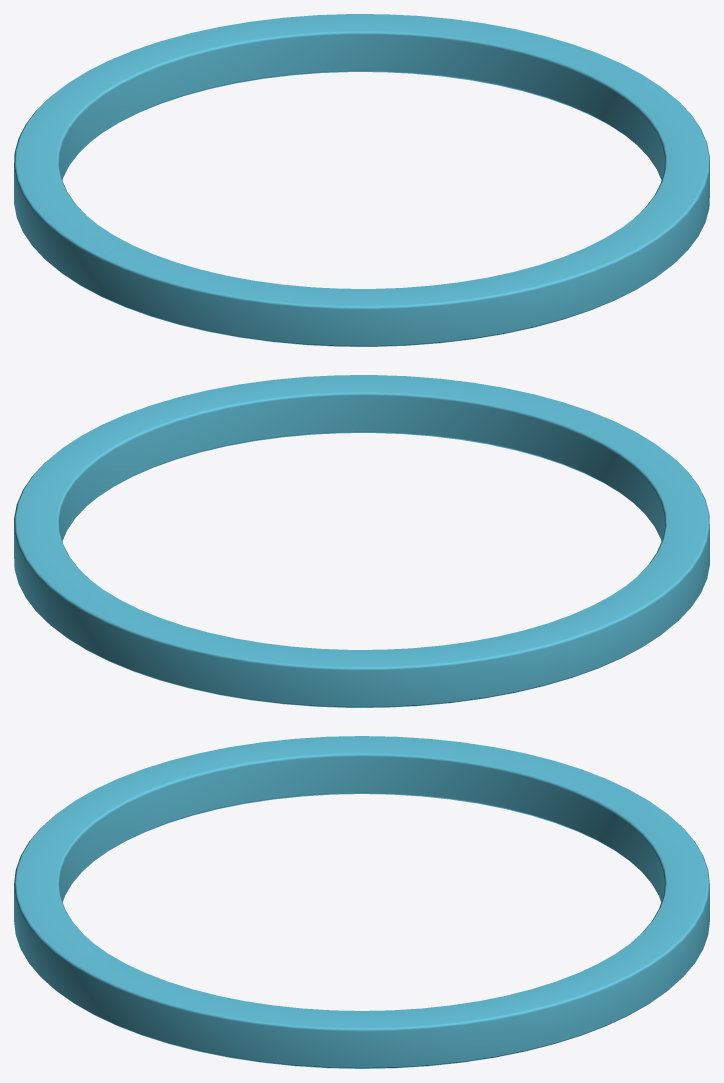
3 views of the same model, one above another, from view 1: azimuth 30°, elevation 25°; view 2: azimuth 150°, elevation 25°; view 3: azimuth 270°, elevation 25° (orthographic).
Visible parts, largest first — view 1: seal_body; view 2: seal_body; view 3: seal_body.
Boxes of the visible parts, box(x1,y1,x2,y2) form: seal_body: box(14, 14, 709, 346); seal_body: box(14, 375, 709, 707); seal_body: box(14, 736, 709, 1068).
Bounding box in the file's own units: 0.146 × 0.00952 × 0.146.
